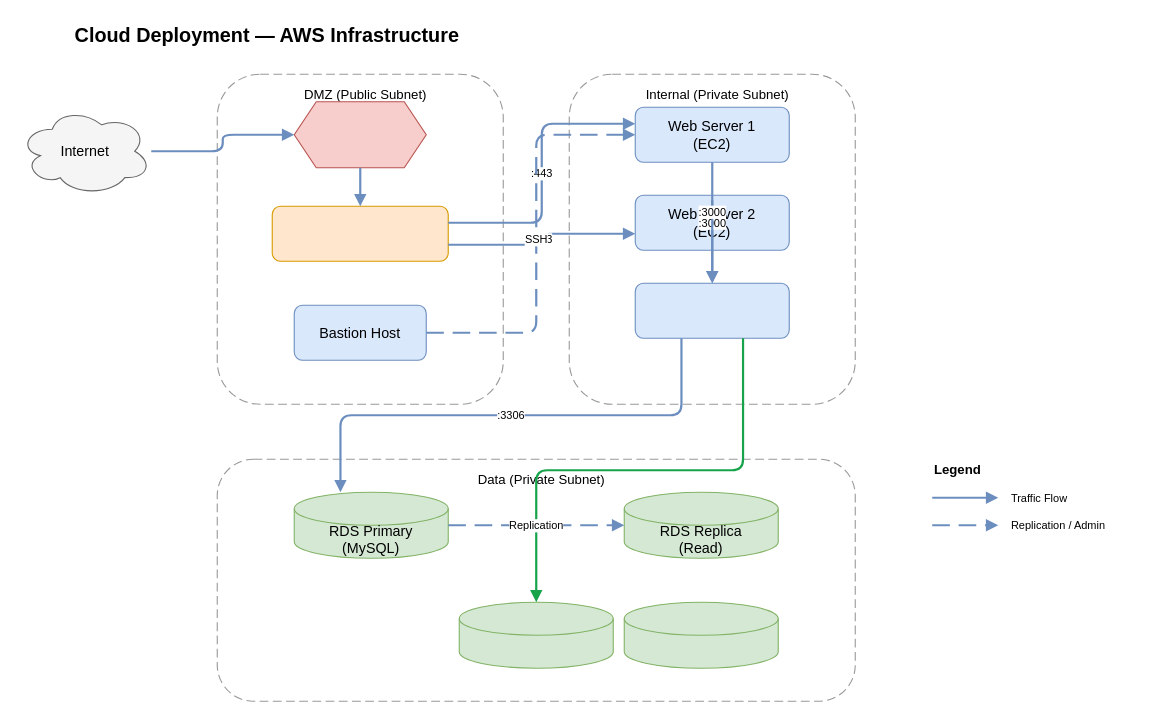
The diagram is 1150 pixels wide and 721 high, and some of its shapes have lost their labels. Each missing label, with the centre of its shape:
"App Server (ECS)" goes at (x=711, y=310).
"Application Load Balancer" goes at (x=359, y=233).
"AWS WAF" goes at (x=359, y=134).
"ElastiCache (Redis)" goes at (x=535, y=634).
"S3 (Object Store)" goes at (x=700, y=634).
